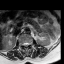CCS_normal: (24, 39, 26, 49)
LFS_normal: (28, 40, 31, 46)
LLS_normal: (26, 39, 28, 48)
RFS_normal: (20, 40, 22, 47)
RLS_normal: (22, 40, 24, 48)
